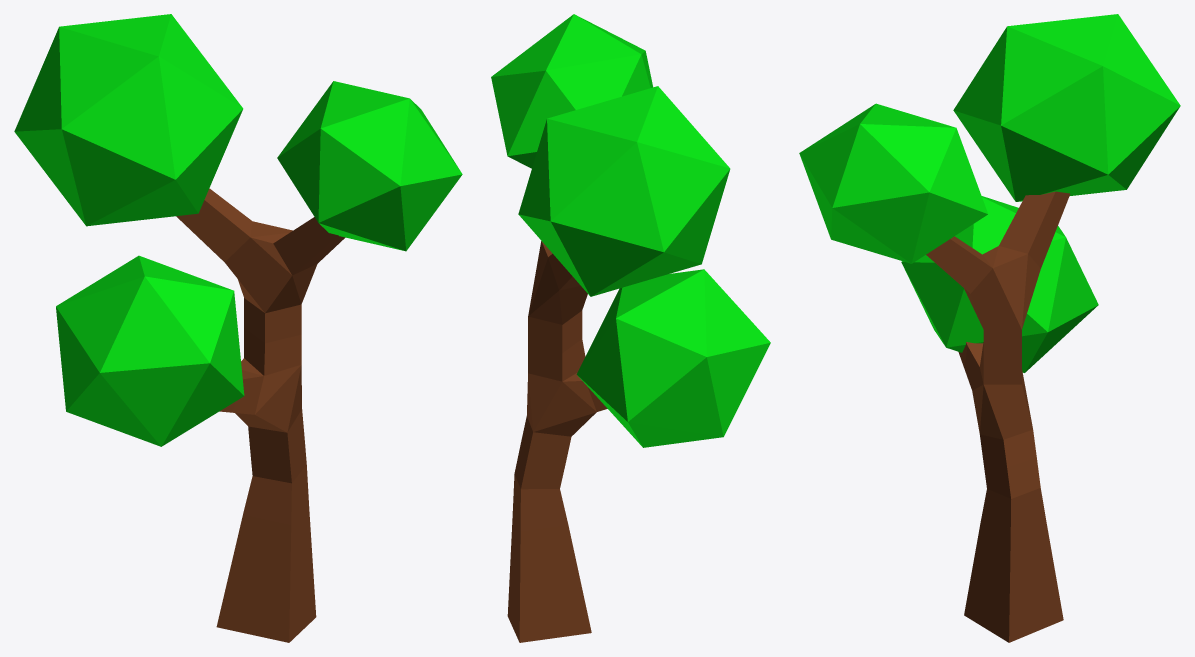
File: tree4.fbx
3 views of the same model, side by side, from view 1: azimuth 30°, elevation 25°; view 2: azimuth 150°, elevation 25°; view 3: azimuth 270°, elevation 25° (orthographic). The views are drawn at different scales.
Parts seen in each view (by area): view 1: Icosphere.011, Icosphere.013, Tree4, Icosphere.012, Tree4.001; view 2: Icosphere.011, Icosphere.013, Tree4, Icosphere.012, Tree4.001; view 3: Icosphere.011, Tree4, Icosphere.012, Icosphere.013, Tree4.001.
Part boxes in pixels (x1,y1,x2,y2): Icosphere.011: [14, 14, 243, 226]; Icosphere.013: [56, 255, 244, 446]; Tree4: [176, 188, 345, 524]; Icosphere.012: [277, 81, 462, 251]; Tree4.001: [216, 508, 316, 642]; Icosphere.011: [518, 86, 730, 296]; Icosphere.013: [576, 269, 770, 447]; Tree4: [512, 241, 607, 531]; Icosphere.012: [491, 14, 652, 168]; Tree4.001: [507, 515, 591, 642]; Icosphere.011: [953, 14, 1180, 201]; Tree4: [926, 191, 1070, 539]; Icosphere.012: [799, 103, 987, 263]; Icosphere.013: [901, 196, 1098, 372]; Tree4.001: [964, 521, 1063, 642].
Bounding box in the file's own units: 623 × 1156 × 731.
